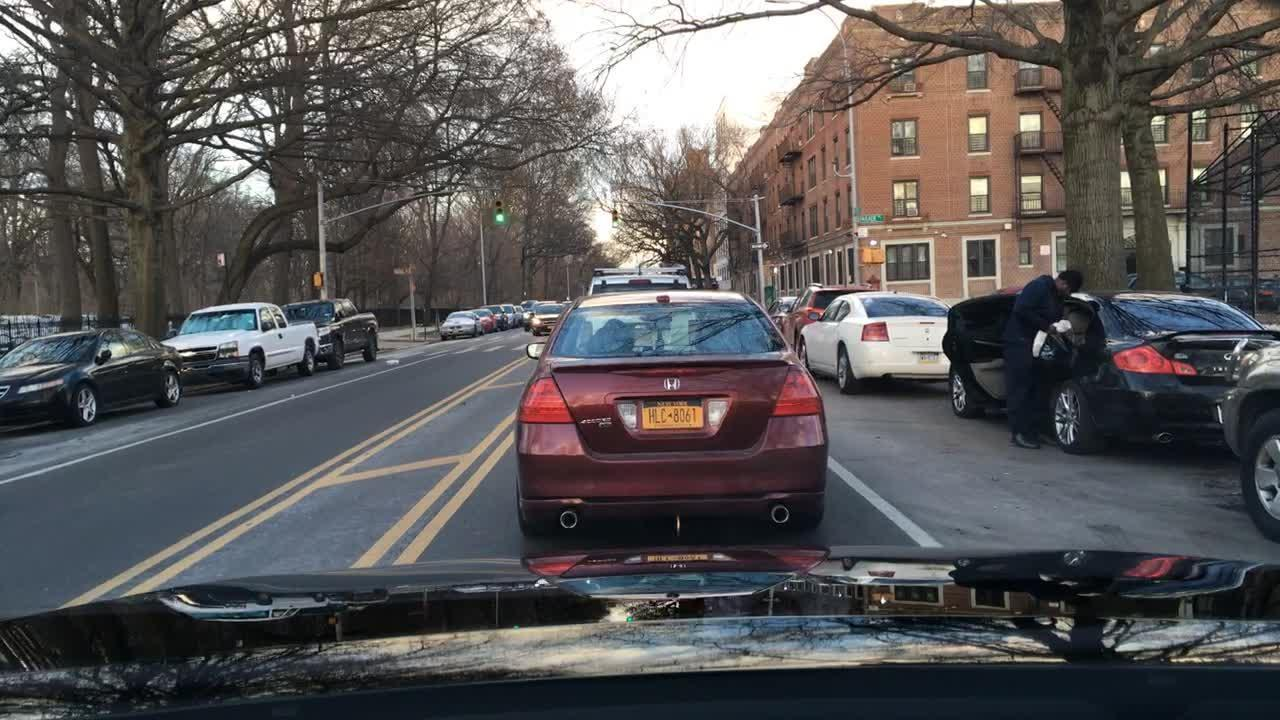Honda: (658, 372, 685, 396)
Infiniti: (1217, 346, 1249, 363)
chevrolet: (171, 347, 202, 363)
